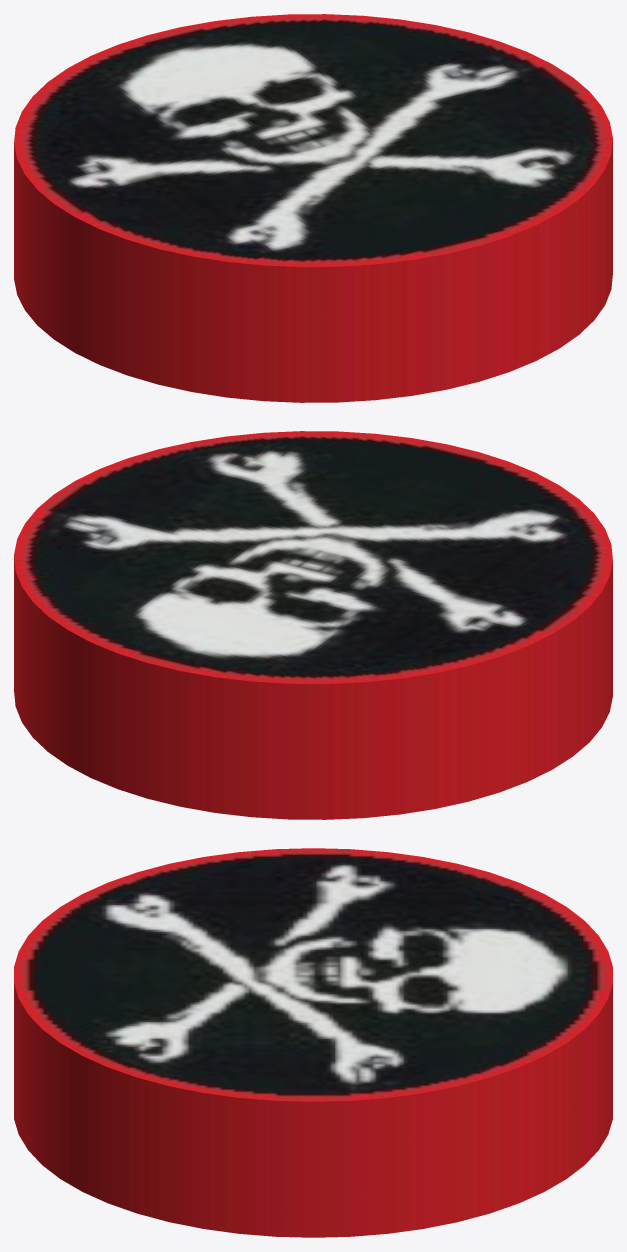
Rendered from RedButton.fbx.
3 views of the same model, one above another, from view 1: azimuth 30°, elevation 25°; view 2: azimuth 150°, elevation 25°; view 3: azimuth 270°, elevation 25° (orthographic).
Parts seen in each view (by area): view 1: pCylinder1; view 2: pCylinder1; view 3: pCylinder1.
Boxes of the visible parts, left/top/right/bottom form: pCylinder1: left=14, top=14, right=612, bottom=402; pCylinder1: left=14, top=431, right=612, bottom=819; pCylinder1: left=14, top=848, right=612, bottom=1237.
Size of the model in its own units: 4 by 1 by 3.99.
Materials: 1 (1 with a texture image).
